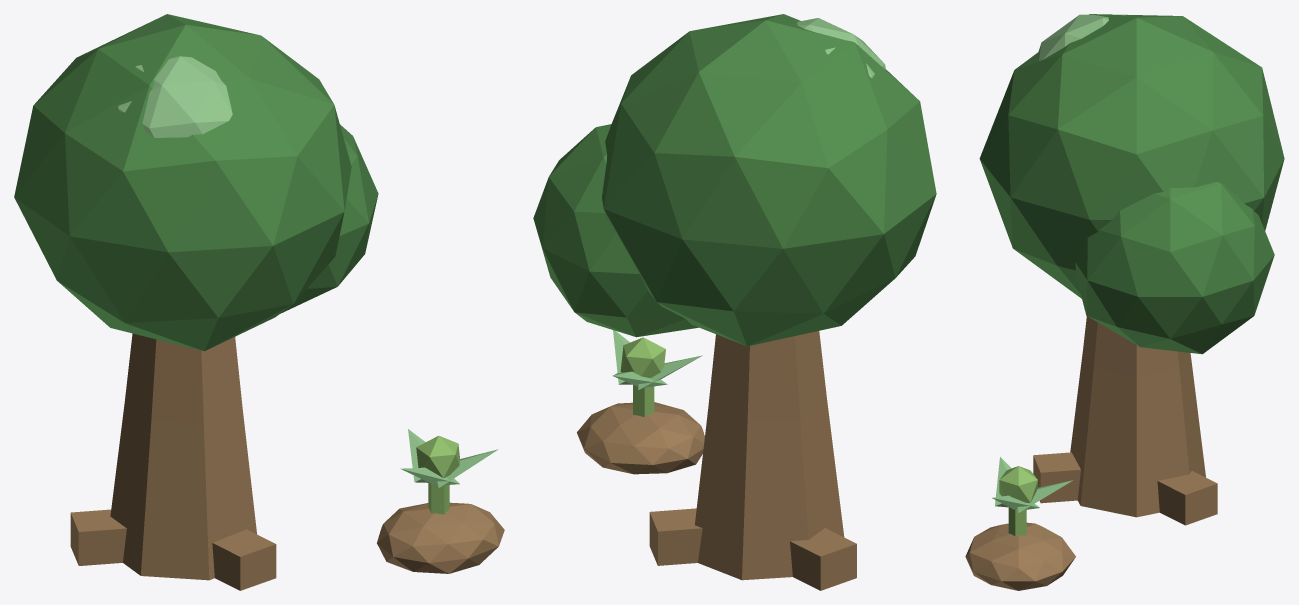
File: forest-g1.glb
3 renders of one model, left to right at view 1: azimuth 30°, elevation 25°; view 2: azimuth 150°, elevation 25°; view 3: azimuth 270°, elevation 25°, orthographic. The views are drawn at different scales.
Parts seen in each view (by area): view 1: forest-g1; view 2: forest-g1; view 3: forest-g1.
Part boxes in pixels (x1,y1,x2,y2): forest-g1: (14, 14, 504, 590); forest-g1: (533, 14, 936, 590); forest-g1: (965, 14, 1284, 590).
Size of the model in its own units: 0.9541 by 1.23 by 0.7575.
